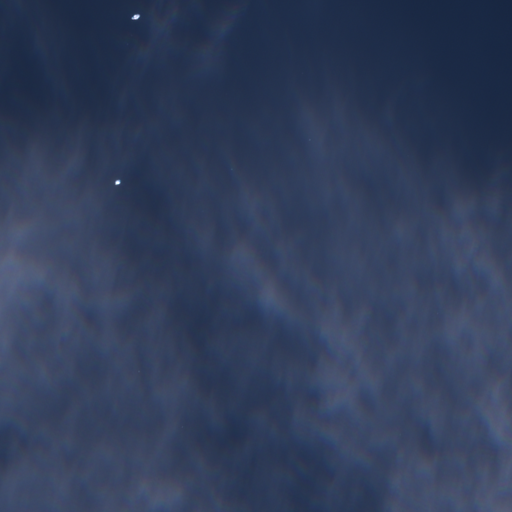Iceberg: (131, 14, 140, 19), (115, 179, 120, 184)
